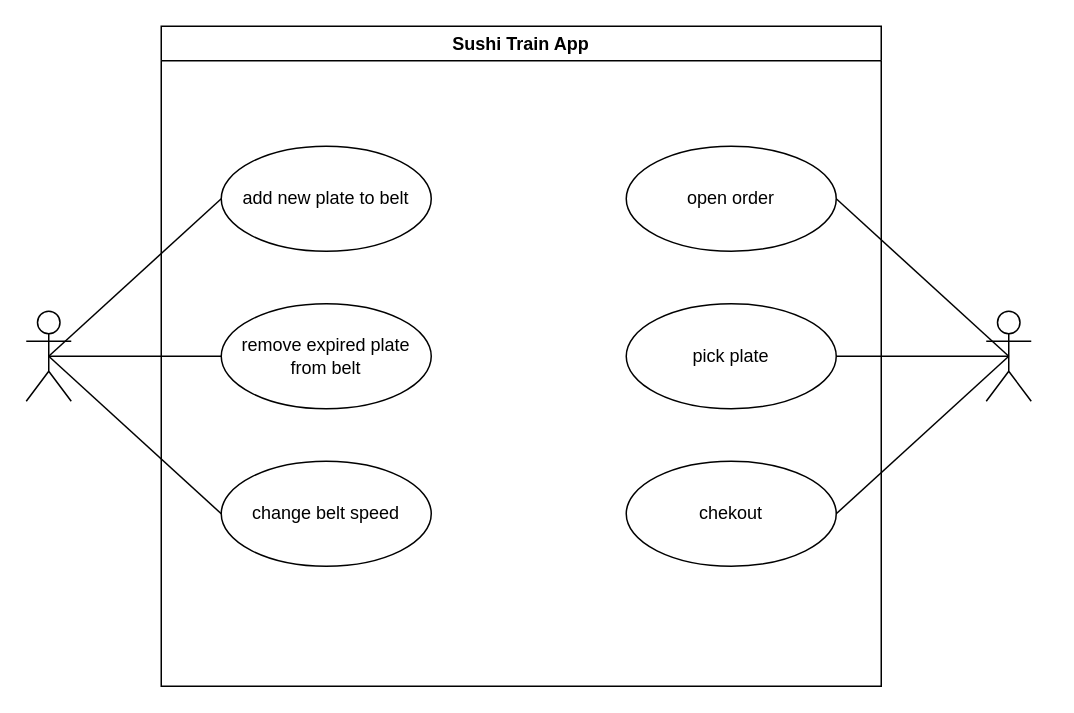
The diagram is 1074 pixels wide and 713 high, and some of its shapes have lost their labels. The box of each missing label's shape, as (x1, y1, x2, y2) in pixels:
Chef: (25, 310, 71, 401)
Customer: (985, 310, 1031, 401)
